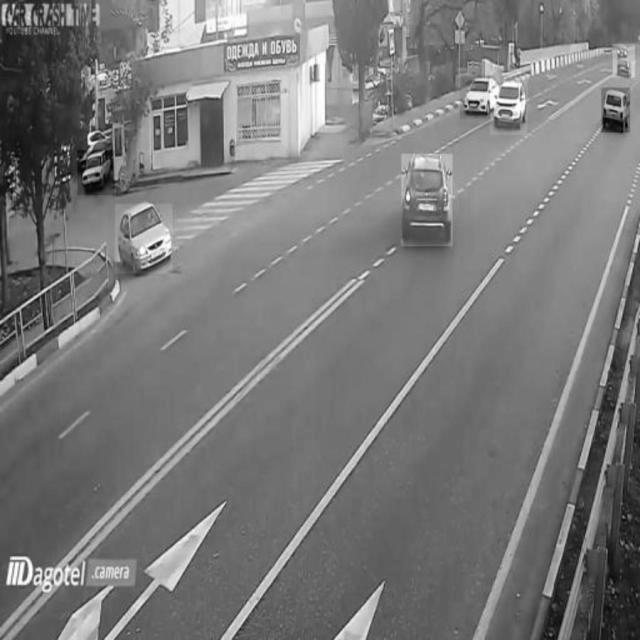vehicle: (401, 154, 452, 246), (115, 204, 172, 274), (489, 73, 527, 135), (77, 151, 115, 196), (460, 77, 496, 119), (602, 88, 630, 133), (612, 44, 636, 78)
